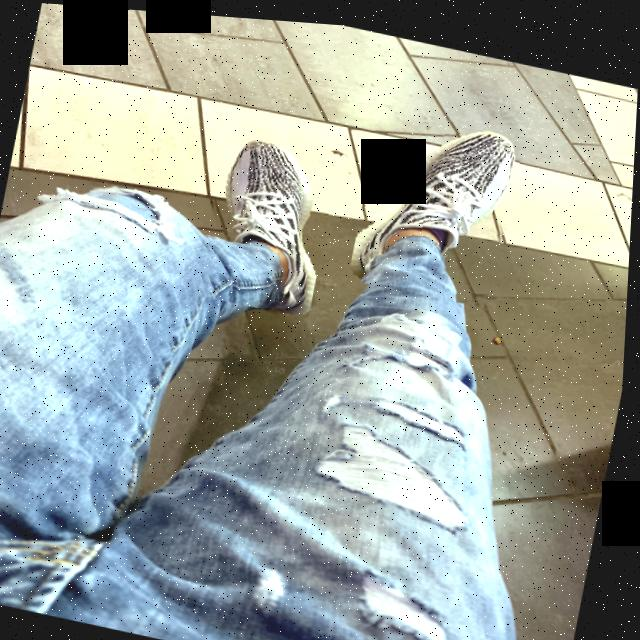shoe: (350, 99, 528, 304), (195, 123, 343, 316)
